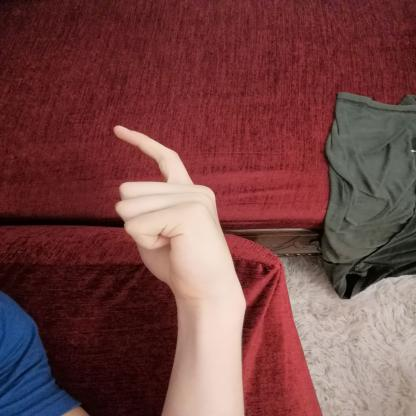RAA: (100, 117, 250, 308)
